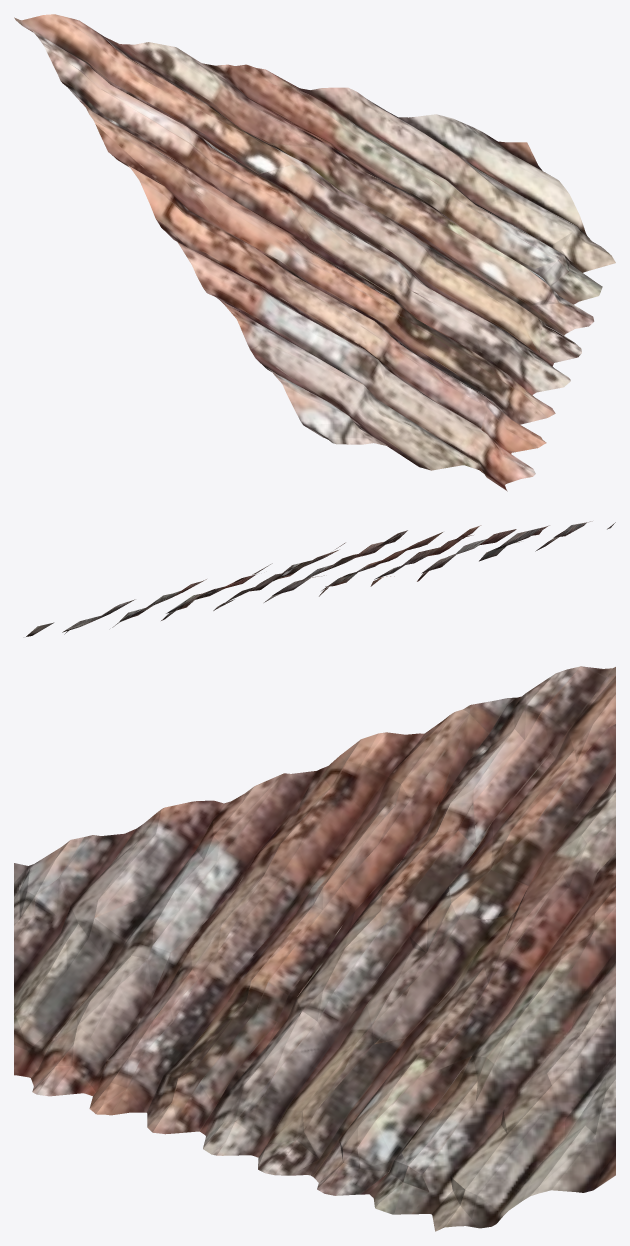
3 views of the same model, one above another, from view 1: azimuth 30°, elevation 25°; view 2: azimuth 150°, elevation 25°; view 3: azimuth 270°, elevation 25° (orthographic). The views are drawn at different scales.
Bounding box in the file's own units: 1.67 × 0.9545 × 1.67.
Materials: 2 (2 with a texture image).
